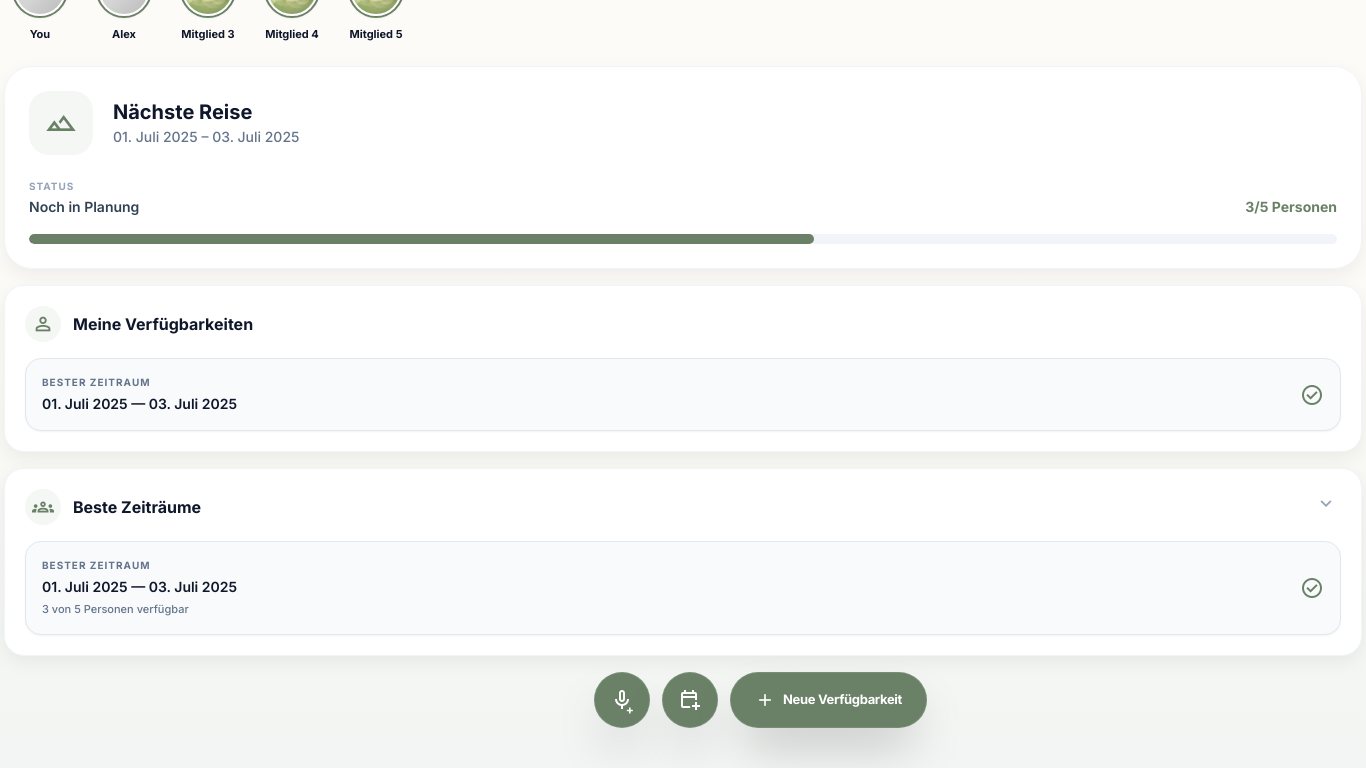
it: GroupDetailPage availability summary › shows best interval and other intervals
This screenshot has width=1366, height=768.
(page scrolled)
Check: the text "3 von 5 Personen verfügbar" is shown, box [42,602,189,616]
Check: the text "Bester Zeitraum" below "Meine Verfügbarkeiten" is shown, box [42,376,150,388]
Click the 1st button at (1326,507), box [1311,489,1341,525]
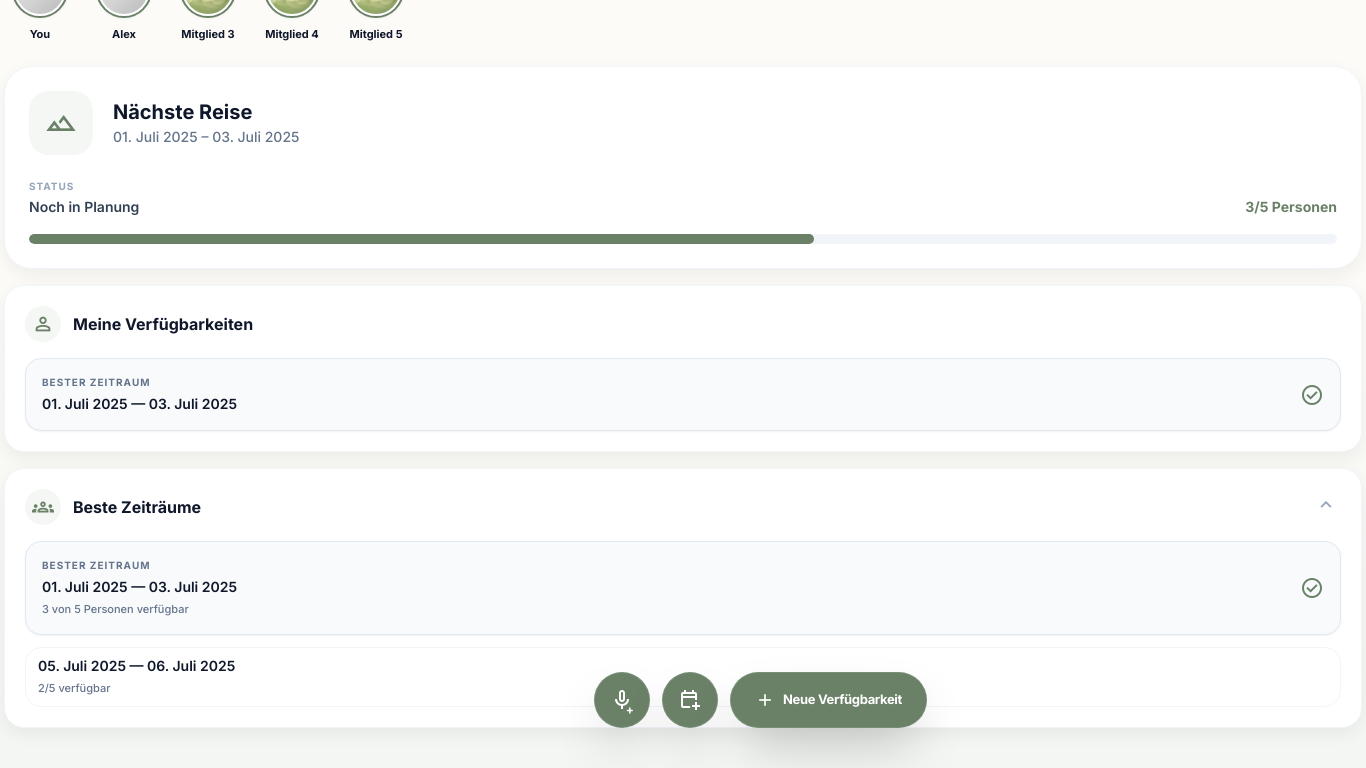
Check: the text "2/5 verfügbar" is shown, box [38,681,110,695]
